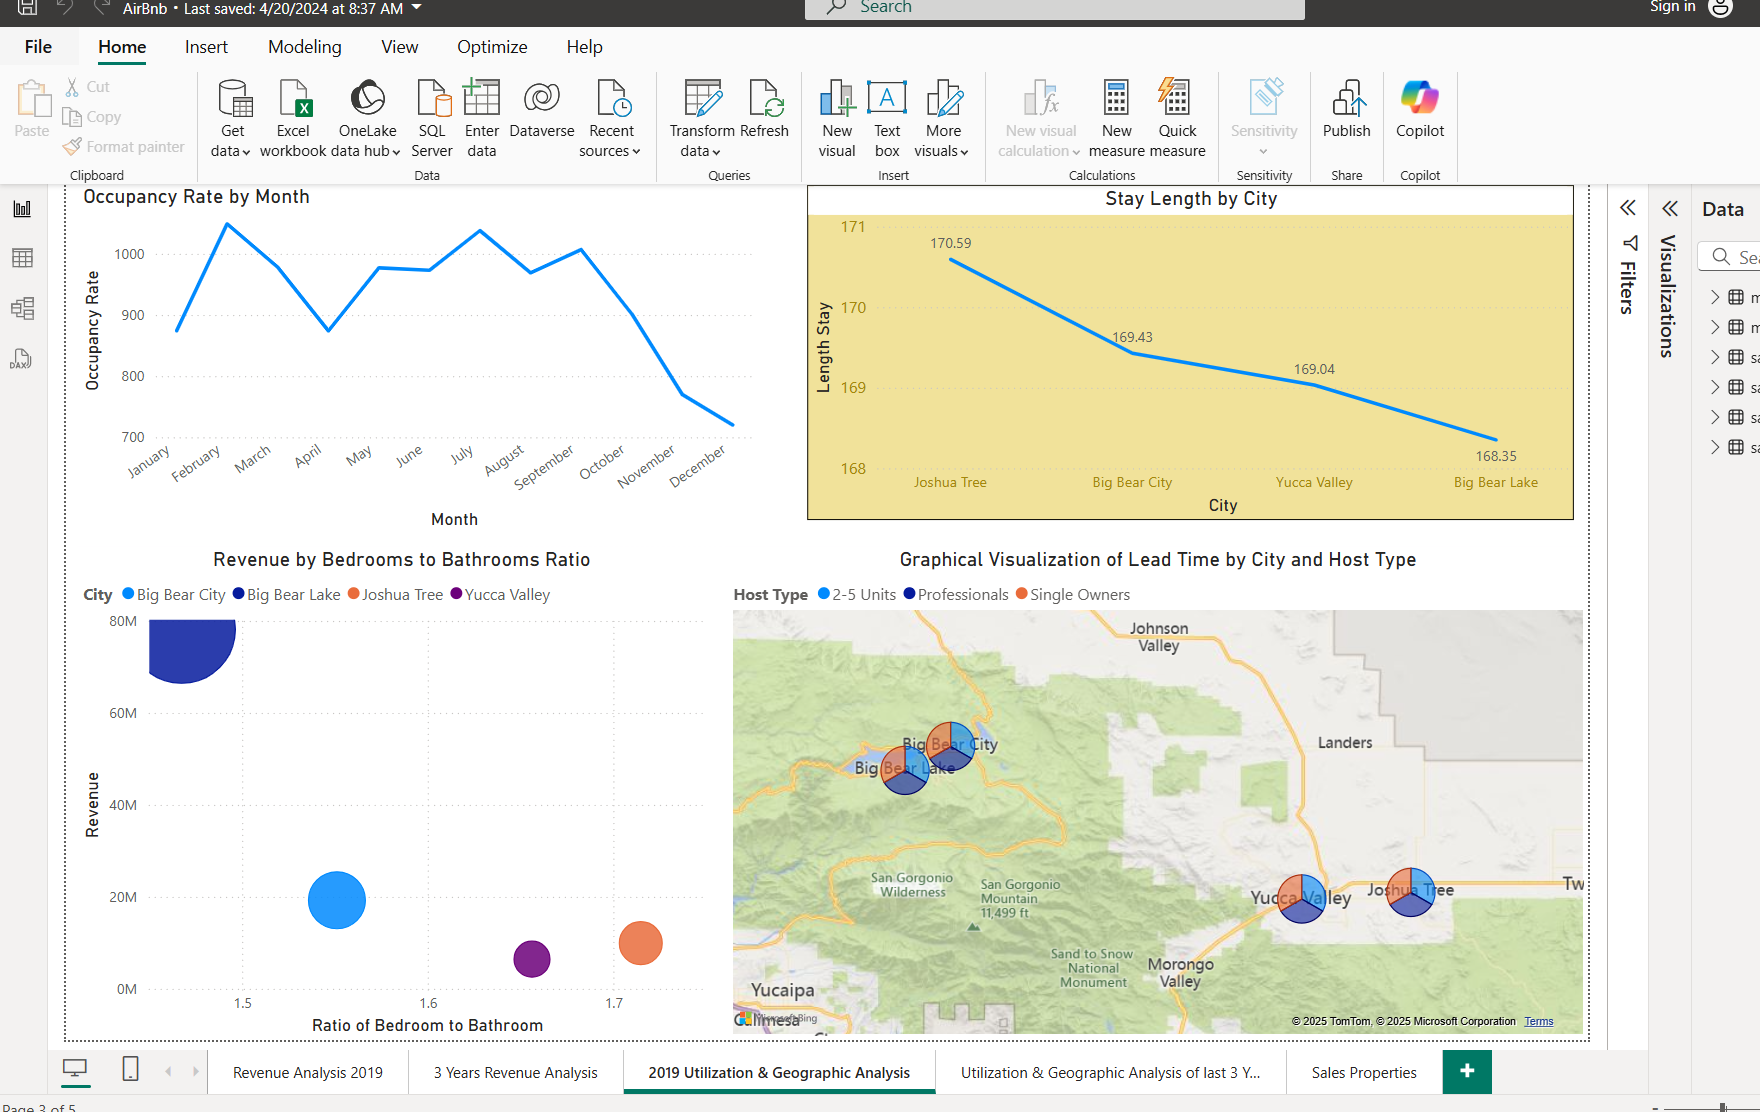

This screenshot's page, from the dashboard's own definition file:
{"tool":"powerbi","page":{"name":"2019 Utilization & Geographic Analysis","canvas":[1280,720],"ordinal":2},"visuals":[{"type":"lineChart","fields":{"Y":["Sum(market_analysis_2019.occupancy)"],"Category":["market_analysis_2019.month.Variation.Date Hierarchy.Month"]},"box":[9.6,0,573.6,295],"z":0},{"type":"lineChart","title":"Stay Length by City","fields":{"Category":["market_analysis_2019.city"],"Y":["Avg(market_analysis_2019.length stay)"]},"box":[583.2,1.4,573.6,295],"z":1000},{"type":"scatterChart","title":"Revenue by Bedrooms to Bathrooms Ratio ","fields":{"X":["Avg(market_analysis_2019.BedbyBath)"],"Y":["Sum(market_analysis_2019.revenue)"],"Category":["market_analysis_2019.city"],"Size":["Sum(market_analysis_2019.revenue)"],"Series":["market_analysis_2019.city"]},"box":[9.6,304.6,546.1,415.8],"z":2000},{"type":"map","title":"Graphical Visualization of Lead Time by City and Host Type","fields":{"Category":["market_analysis_2019.city"],"Series":["market_analysis_2019.host_type"],"Size":["Avg(market_analysis.lead time)"]},"box":[555.7,304.6,725,416],"z":3000}]}

Visuals, with their boxes on the page's 1280x720 design canvas (x1, y1, x2, y2). These are canvas units, not pixel positions in the 1760x1112 screenshot, which may show the page scaled, cropped or inside an application window:
lineChart - Sum(market_analysis_2019.occupancy) x market_analysis_2019.month.Variation.Date Hierarchy.Month: bbox(10, 0, 583, 295)
"Stay Length by City" lineChart: bbox(583, 1, 1157, 296)
"Revenue by Bedrooms to Bathrooms Ratio " scatterChart: bbox(10, 305, 556, 720)
"Graphical Visualization of Lead Time by City and Host Type" map: bbox(556, 305, 1281, 721)
